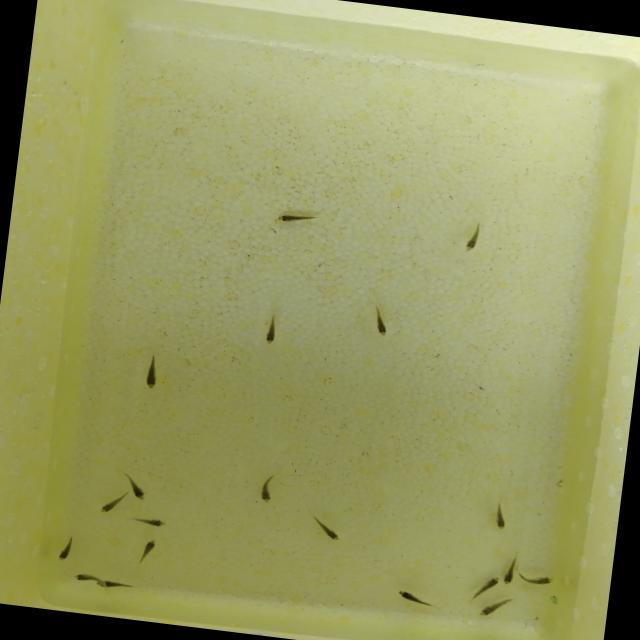fingerling: (268, 202, 328, 232), (360, 298, 400, 342), (454, 216, 493, 257), (254, 305, 288, 352), (484, 494, 520, 538), (304, 512, 349, 546), (250, 466, 282, 511), (135, 349, 164, 394), (476, 592, 516, 620), (518, 566, 563, 590), (122, 472, 152, 506), (54, 530, 82, 566), (391, 586, 436, 608), (134, 534, 161, 568), (131, 511, 174, 530), (97, 493, 124, 519), (68, 566, 100, 585), (502, 551, 520, 584), (472, 574, 500, 594), (101, 579, 138, 593)
